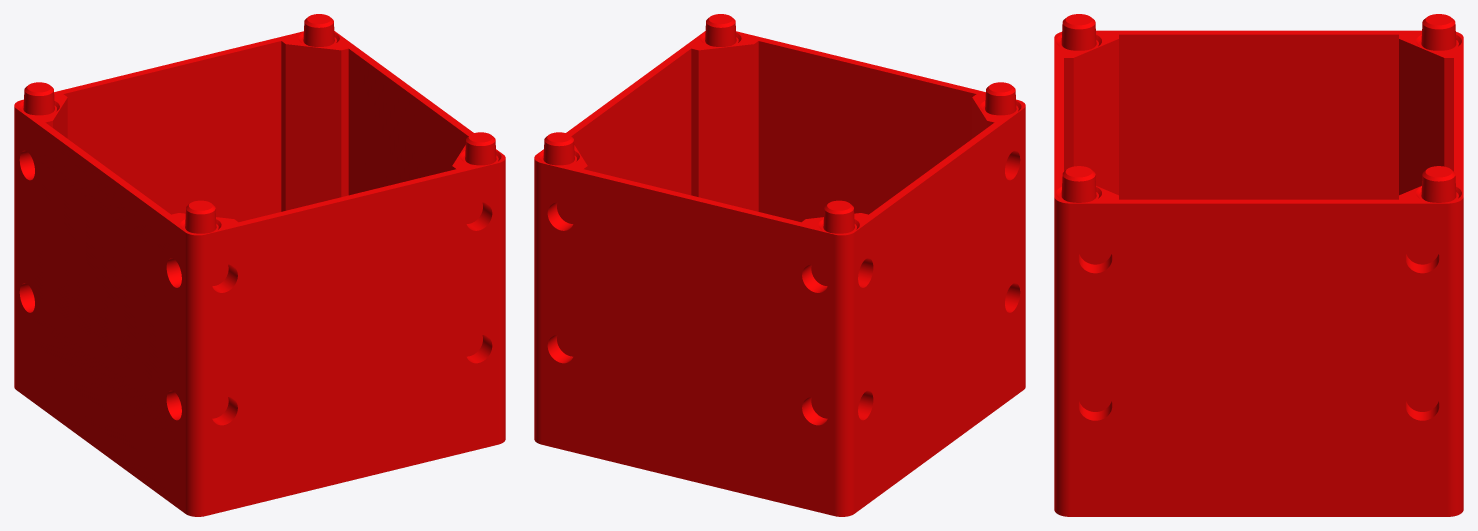
Rendered from V5_Cube 1x1 Bottom V5 Closed Vertical.obj.
3 renders of one model, left to right at view 1: azimuth 30°, elevation 25°; view 2: azimuth 150°, elevation 25°; view 3: azimuth 270°, elevation 25°, orthographic. The views are drawn at different scales.
Visible parts, largest first — view 1: Solid1:6; view 2: Solid1:6; view 3: Solid1:6.
Boxes of the visible parts, left/top/right/bottom form: Solid1:6: left=14, top=14, right=505, bottom=516; Solid1:6: left=534, top=14, right=1025, bottom=516; Solid1:6: left=1054, top=14, right=1463, bottom=516.
Size of the model in its own units: 49.8 by 44.97 by 49.8.
